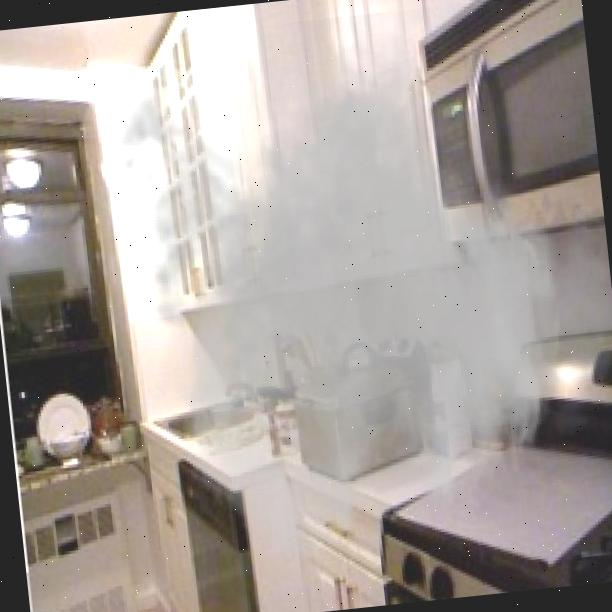smoke: (88, 0, 612, 580)
